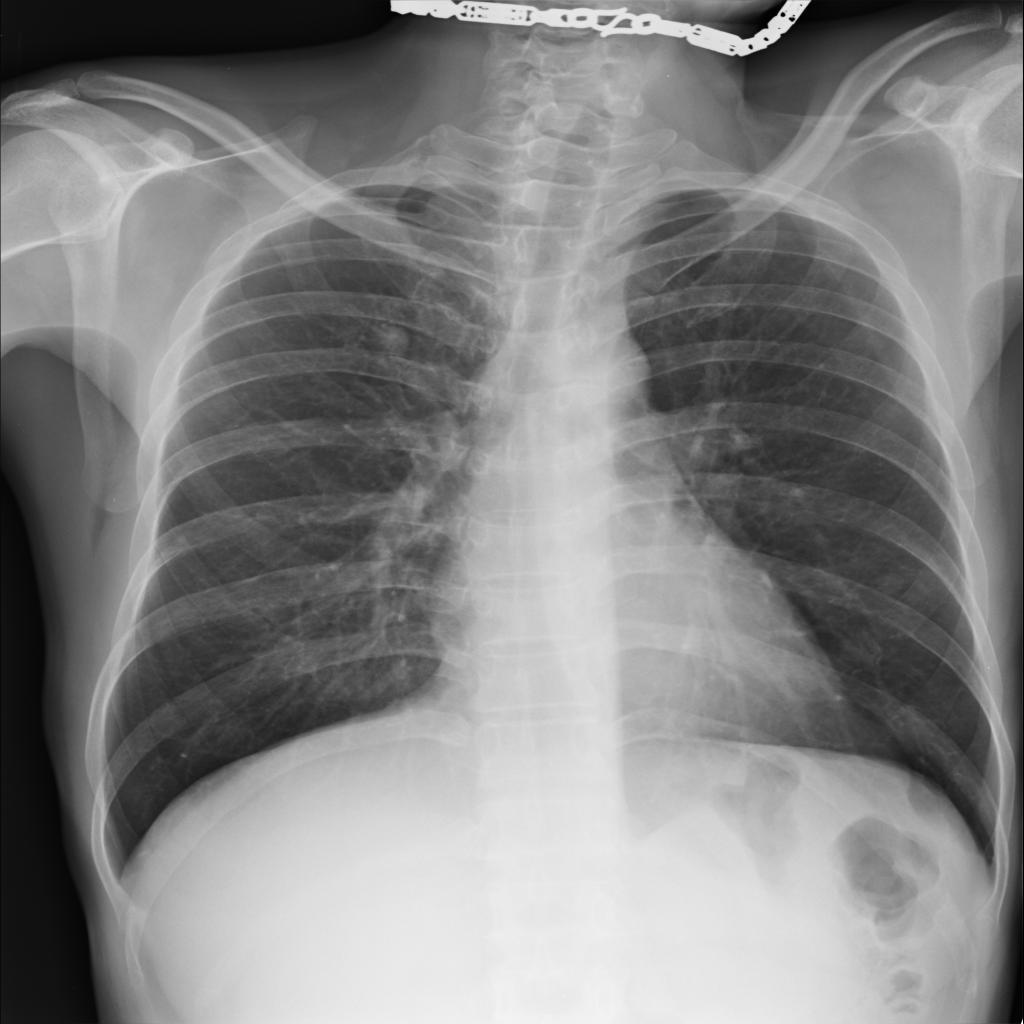Nodule: (369, 322, 416, 358)
